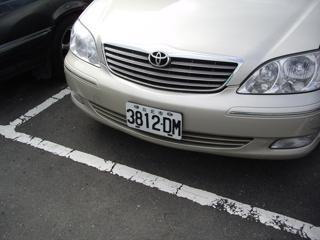plate: (122, 101, 186, 145)
